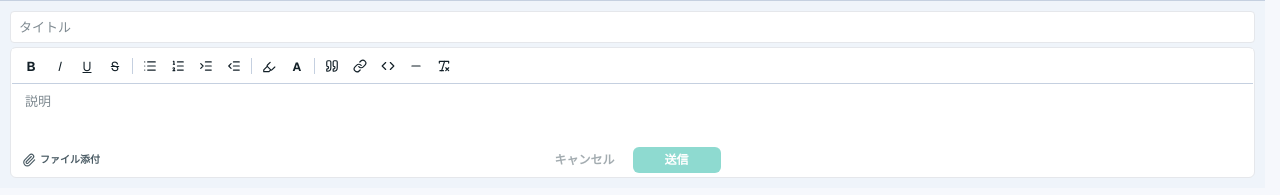
Test case: ThemeComposer › タイトルだけ入力すると送信・キャンセルが活性化する（dsk-0350）
Type "テストテーマ" into the field with placeholder "タイトル" at {"x": 632, "y": 27}, box [10,11,1255,43]
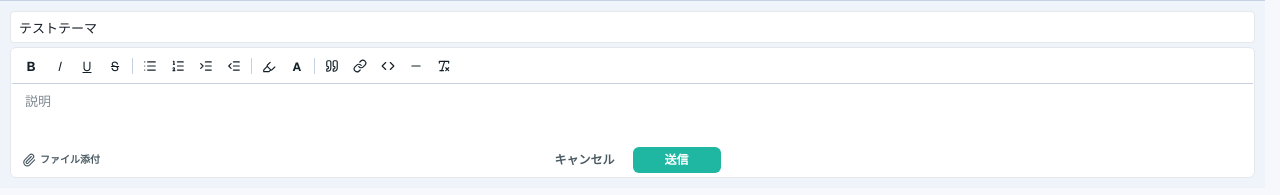
Check: the button "送信" is enabled, box [632,147,720,173]
Check: the button "キャンセル" is enabled, box [544,147,624,173]
